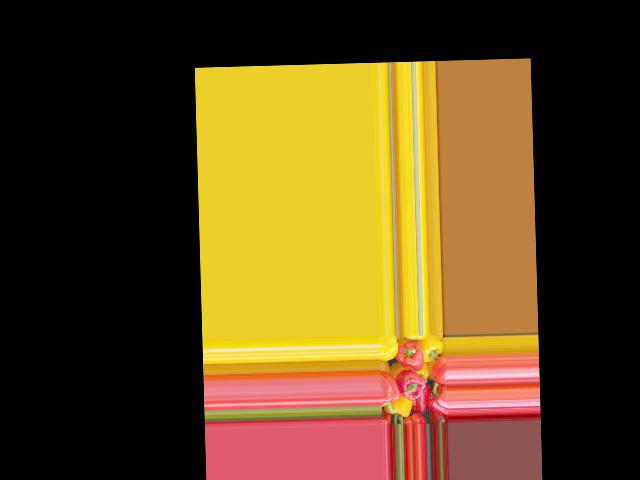bell_pepper: (418, 334, 441, 359)
